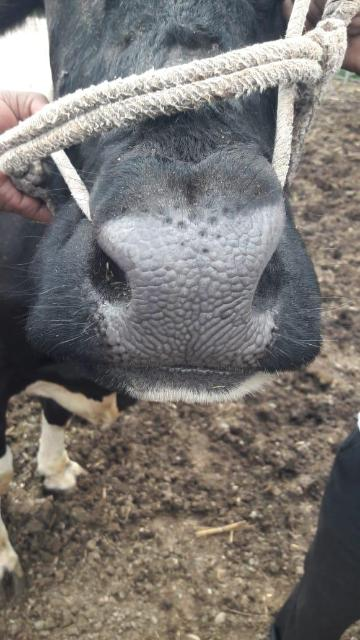Muzzle: (101, 212, 277, 366)
